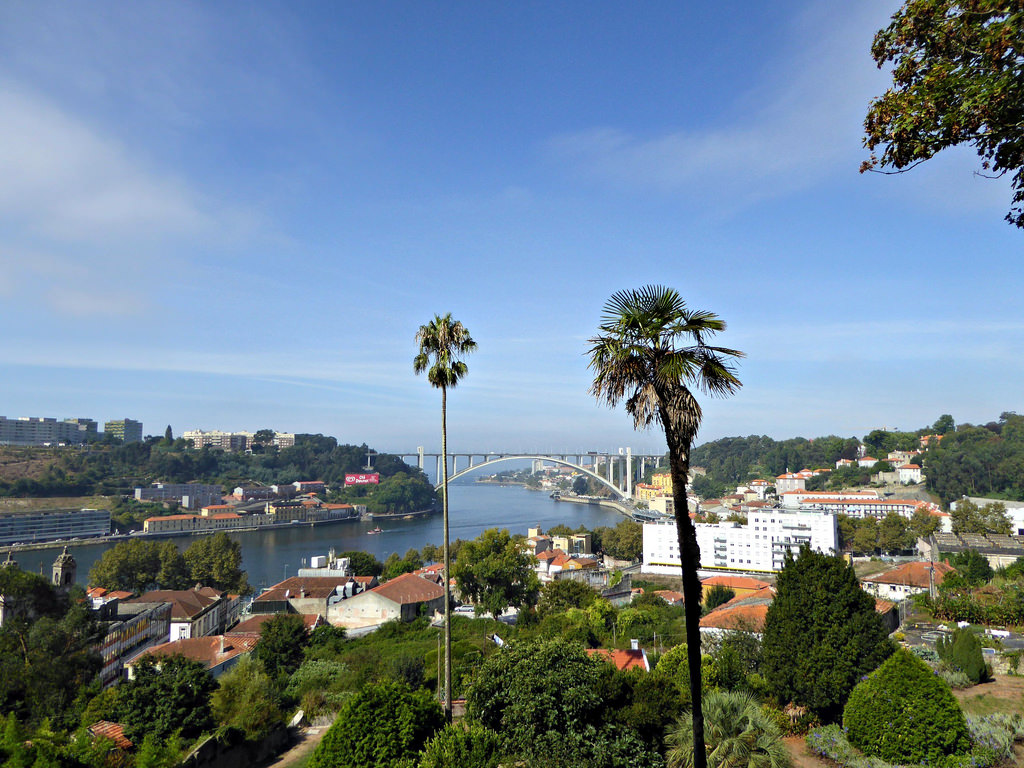arrabida: (381, 441, 668, 498)
